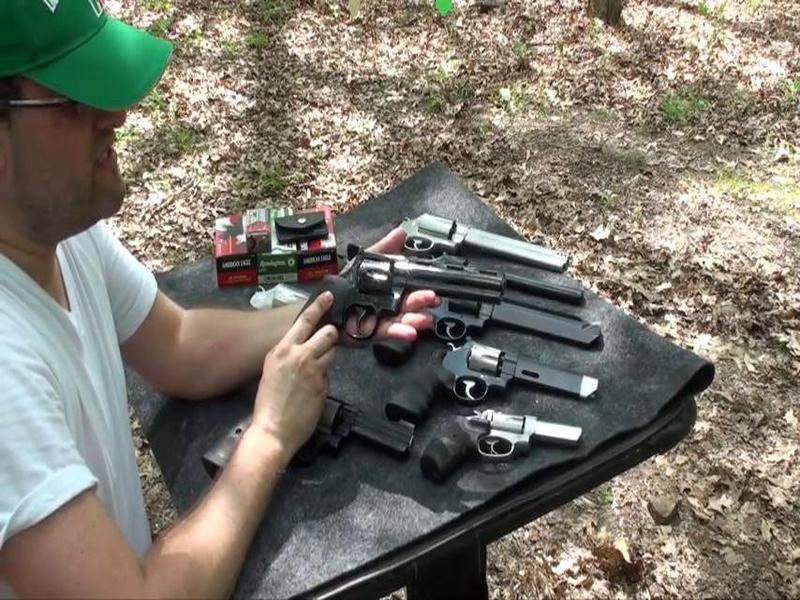Revolver: (296, 236, 500, 367)
